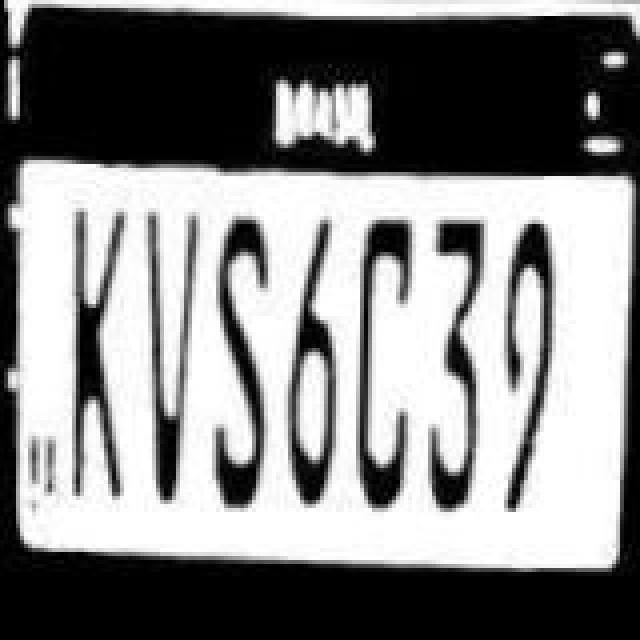3: (428, 224, 496, 520)
6: (272, 212, 348, 520)
9: (492, 222, 564, 530)
C: (348, 218, 416, 518)
K: (62, 210, 142, 518)
S: (200, 208, 276, 512)
V: (134, 210, 198, 506)
